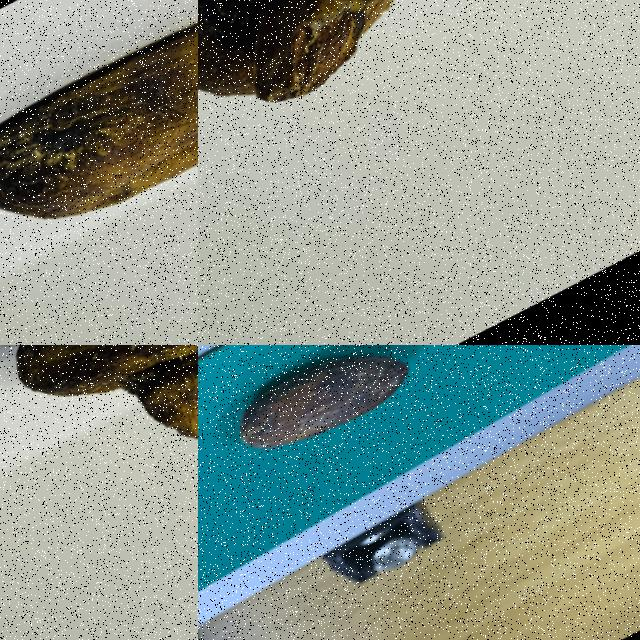Agglomerated_cocoabeans: (198, 0, 639, 211), (0, 345, 197, 612)
Fine_cocoabeans: (0, 0, 197, 344), (198, 345, 515, 539)
